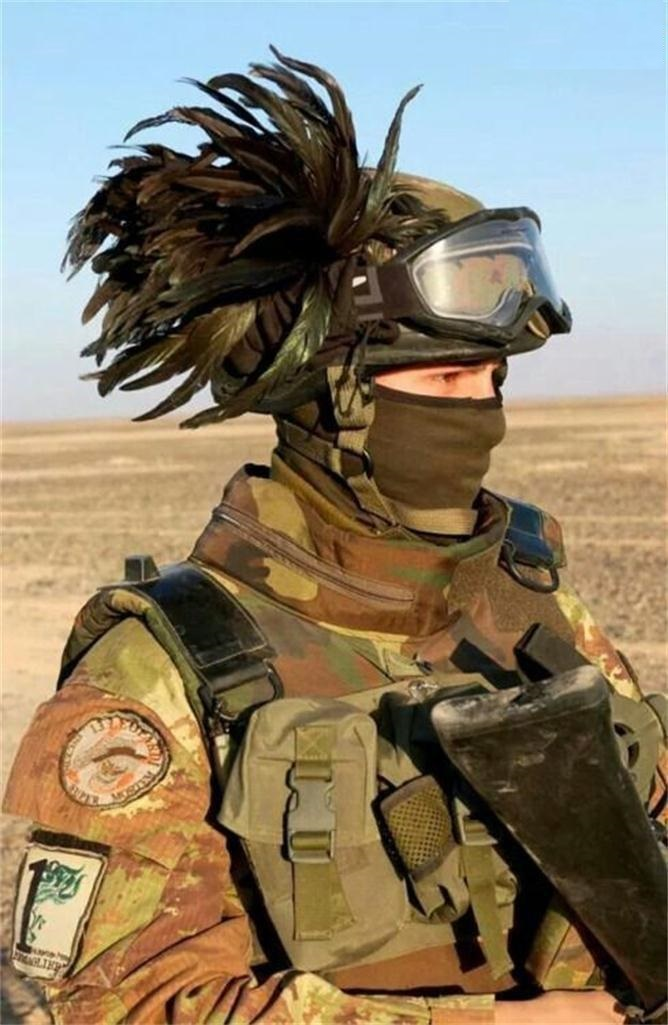face_mask: (374, 336, 515, 536)
